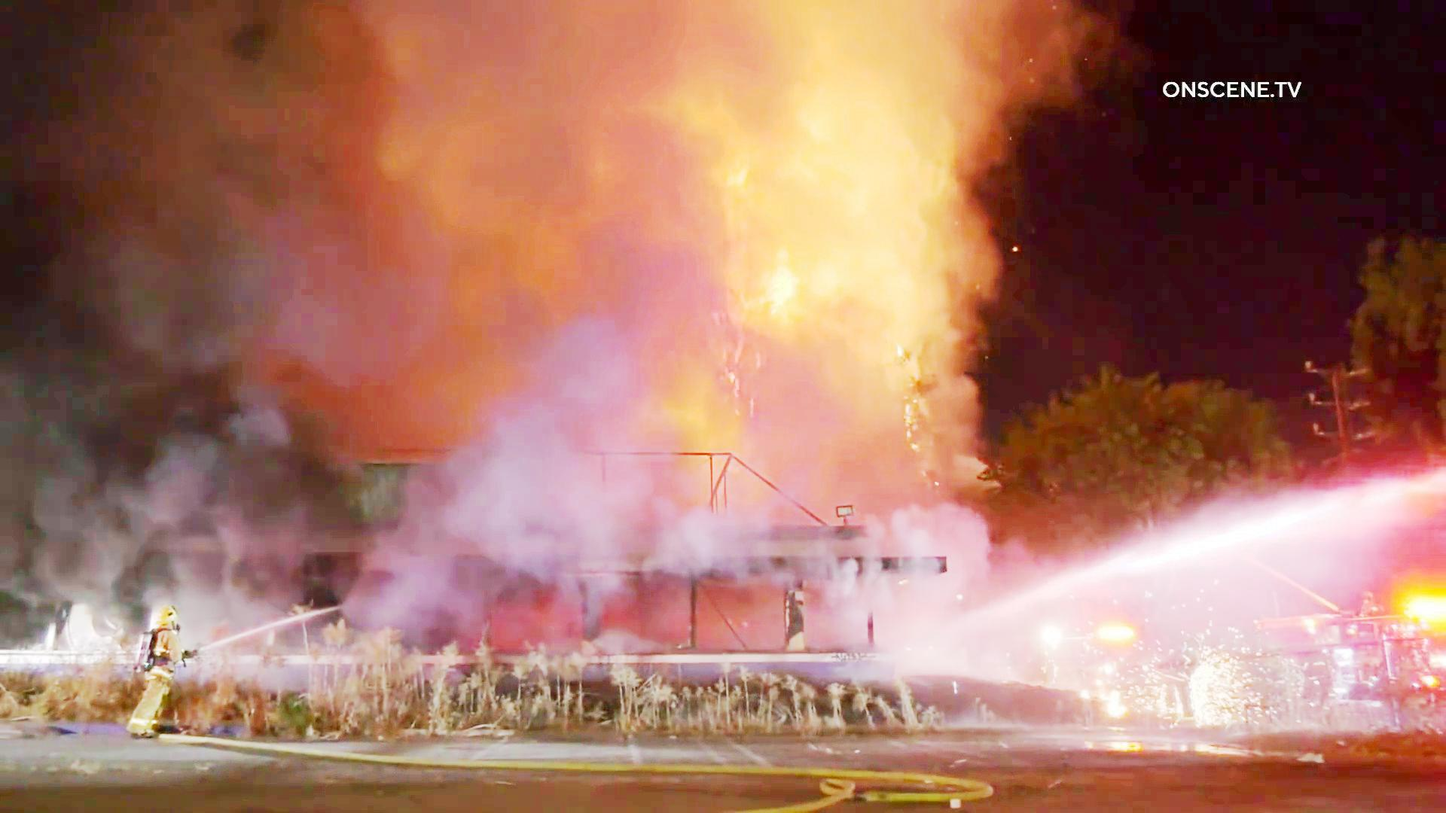smoke: (45, 12, 966, 538)
